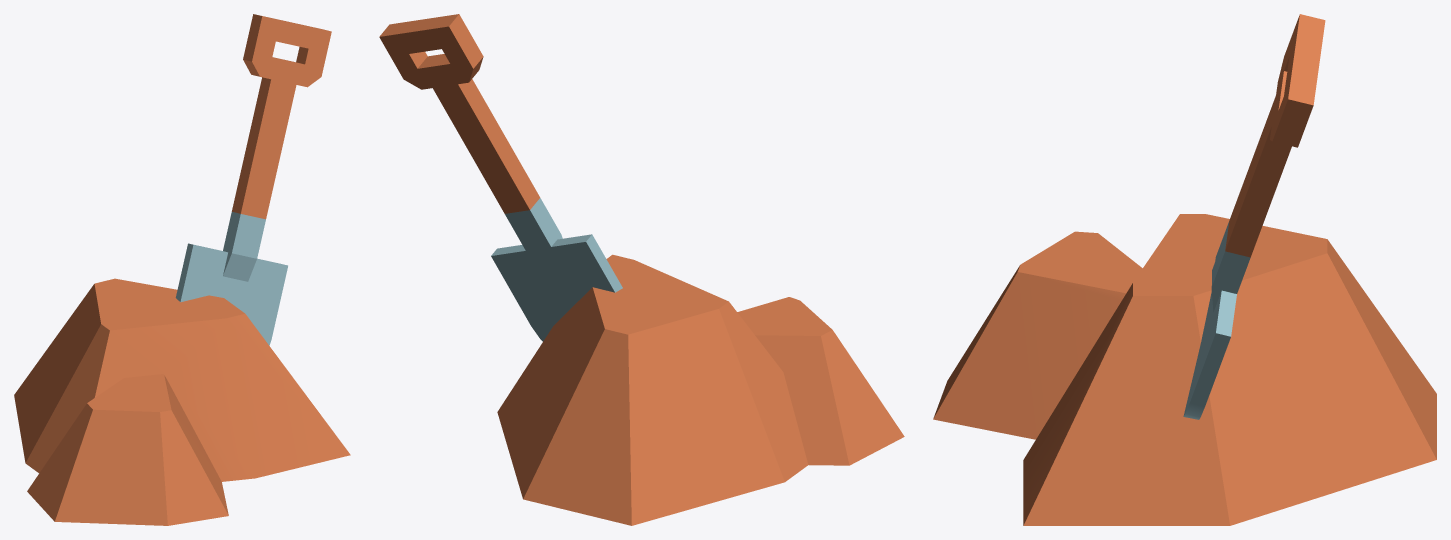
File: shovelDirt.dae
3 views of the same model, side by side, from view 1: azimuth 30°, elevation 25°; view 2: azimuth 150°, elevation 25°; view 3: azimuth 270°, elevation 25° (orthographic). The views are drawn at different scales.
Parts seen in each view (by area): view 1: shovelDirt; view 2: shovelDirt; view 3: shovelDirt.
Boxes of the visible parts, x1,y1,x2,y2 form: shovelDirt: (14,14,350,525); shovelDirt: (379,14,904,525); shovelDirt: (933,14,1436,525).
Size of the model in its own units: 0.5994 by 0.5738 by 0.5057.
